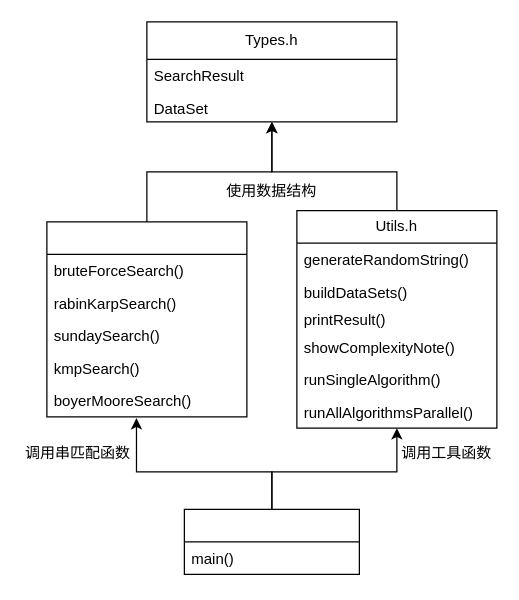
The diagram is 519 pixels wide and 600 high, and some of its shapes have lost their labels. The shapes that lost their labels are listed below. From the top down, each one's box as (x1, y1, x2, y2) in pixels, then its label:
(46, 221, 247, 417): StringMatcher.cpp
(183, 508, 359, 574): main.cpp
